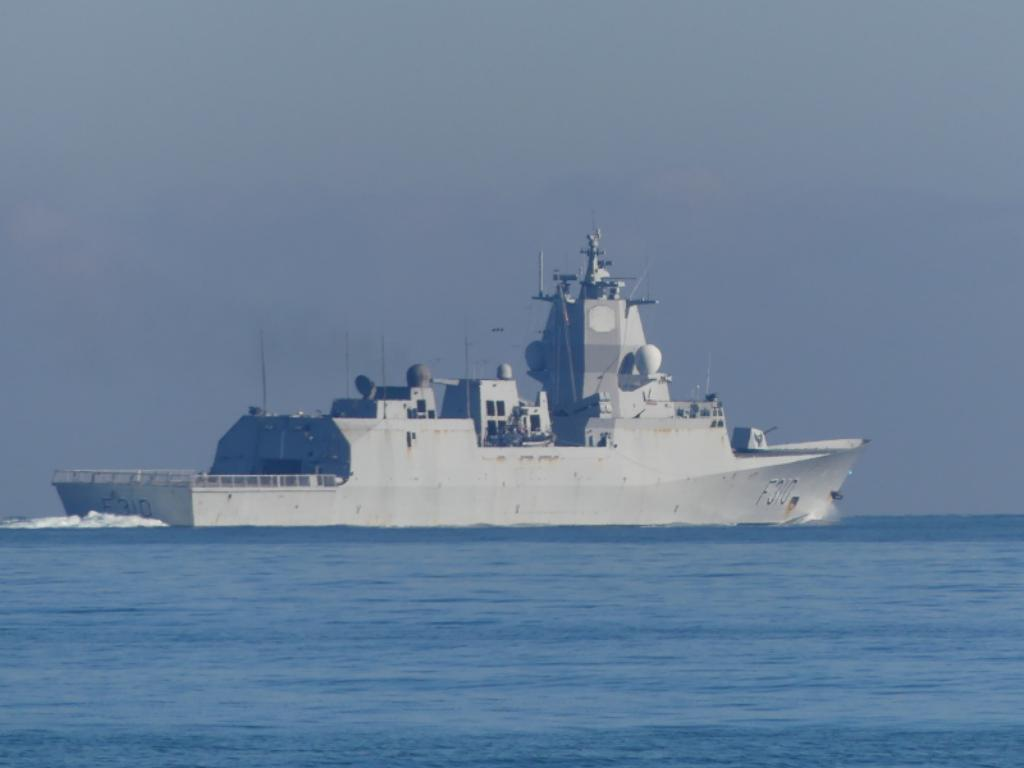Warship: (51, 218, 877, 538)
